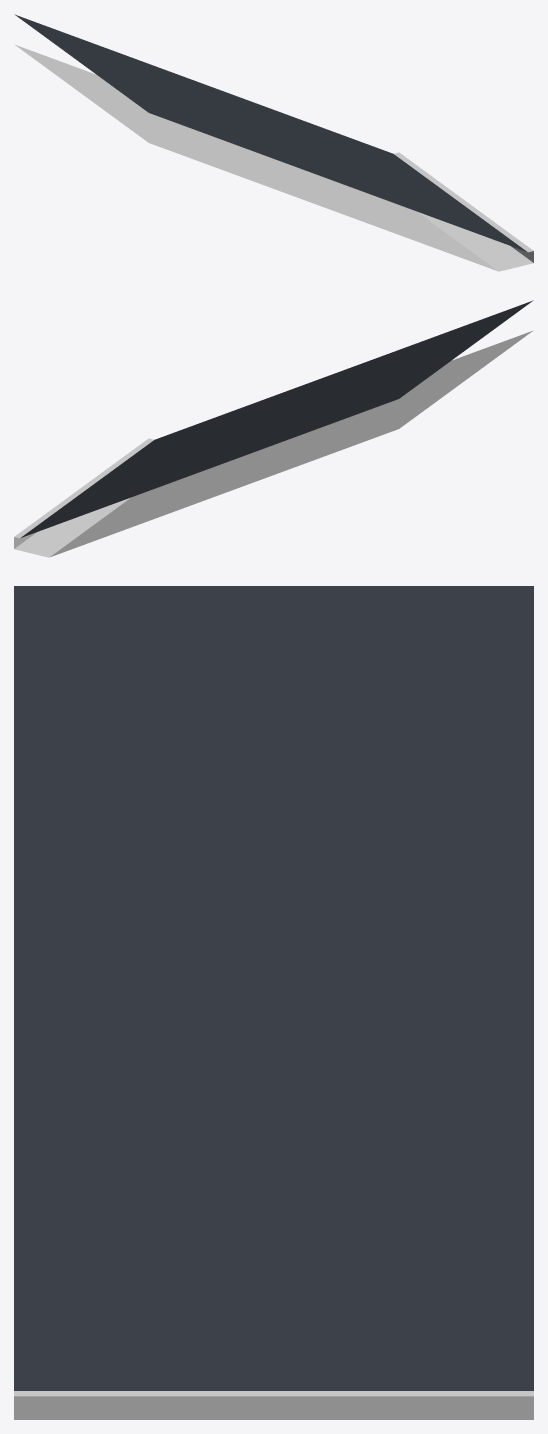
File: SM_roof_03.glb
3 views of the same model, one above another, from view 1: azimuth 30°, elevation 25°; view 2: azimuth 150°, elevation 25°; view 3: azimuth 270°, elevation 25° (orthographic). The views are drawn at different scales.
Parts seen in each view (by area): view 1: SM_roof_03; view 2: SM_roof_03; view 3: SM_roof_03.
Boxes of the visible parts, <box> form: SM_roof_03: <box>14,14,533,271</box>; SM_roof_03: <box>14,300,533,557</box>; SM_roof_03: <box>14,586,533,1419</box>.
Size of the model in its own units: 6.6 by 4 by 4.
1 material, 1 textured.
